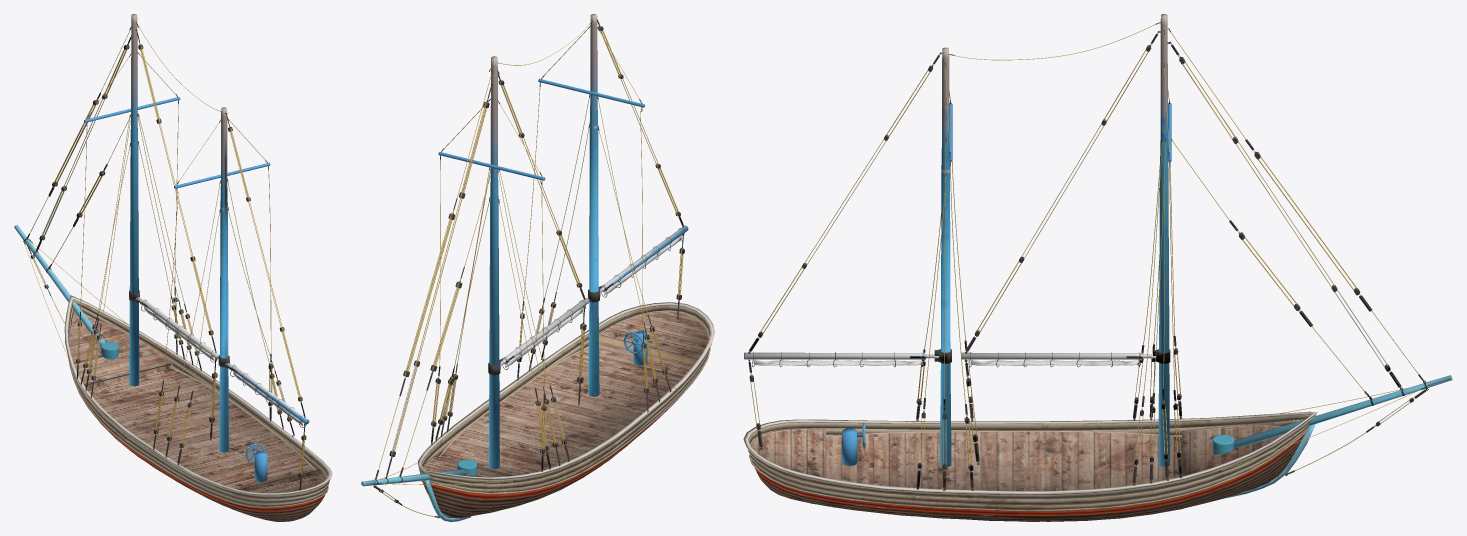
The model's file is corvette.fbx.
3 views of the same model, side by side, from view 1: azimuth 30°, elevation 25°; view 2: azimuth 150°, elevation 25°; view 3: azimuth 270°, elevation 25° (orthographic). The views are drawn at different scales.
Parts seen in each view (by area): view 1: corvette; view 2: corvette; view 3: corvette.
Boxes of the visible parts, x1,y1,x2,y2 form: corvette: (14, 14, 332, 521); corvette: (361, 14, 714, 521); corvette: (743, 14, 1452, 521).
Size of the model in its own units: 4.85 by 15.36 by 20.03.
